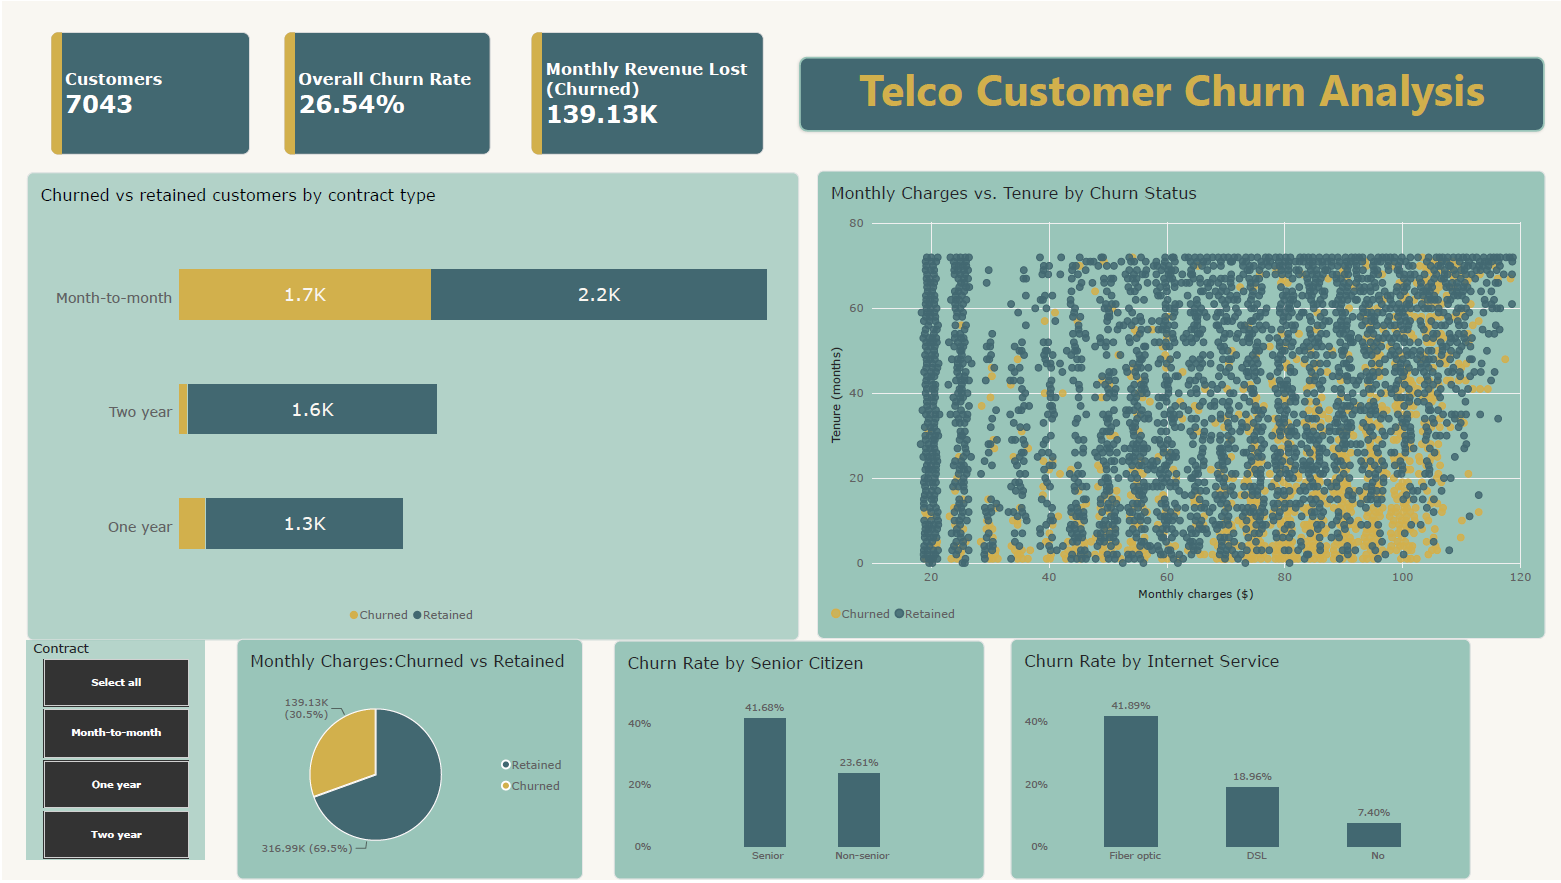

This screenshot's page, from the dashboard's own definition file:
{"tool":"powerbi","page":{"name":"Page 1","canvas":[1920,1080],"ordinal":0},"visuals":[{"type":"barChart","title":"Churned vs retained customers by contract type","fields":{"Category":["WA_Fn-UseC_-Telco-Customer-Churn.Contract"],"Series":["Telco.Churn Status"],"Y":["CountNonNull(WA_Fn-UseC_-Telco-Customer-Churn.customerID)"]},"box":[30,210,950,576],"z":0},{"type":"scatterChart","title":"Monthly Charges vs. Tenure by Churn Status","fields":{"Category":["WA_Fn-UseC_-Telco-Customer-Churn.customerID"],"Series":["Telco.Churn Status"],"X":["Avg(WA_Fn-UseC_-Telco-Customer-Churn.MonthlyCharges)"],"Y":["Avg(WA_Fn-UseC_-Telco-Customer-Churn.tenure)"]},"box":[1002,208,896,576],"z":1000},{"type":"textbox","box":[1002.6,38,917.5,92.3],"z":3000},{"type":"pieChart","title":"Monthly Charges:Churned vs Retained","fields":{"Category":["Telco.Churn Status"],"Y":["Sum(WA_Fn-UseC_-Telco-Customer-Churn.MonthlyCharges)"]},"box":[288,784,426,296],"z":4000},{"type":"clusteredColumnChart","title":"Churn Rate by Senior Citizen","fields":{"Category":["WA_Fn-UseC_-Telco-Customer-Churn.SeniorGroup"],"Y":["WA_Fn-UseC_-Telco-Customer-Churn.Churn_Rate"]},"box":[752,786,456,294],"z":5000},{"type":"clusteredColumnChart","title":"Churn Rate by Internet Service","fields":{"Category":["WA_Fn-UseC_-Telco-Customer-Churn.InternetService"],"Y":["WA_Fn-UseC_-Telco-Customer-Churn.Churn_Rate"]},"box":[1240,784,566,296],"z":6000},{"type":"cardVisual","fields":{"Data":["Telco.Customers"]},"box":[59.7,38,244.3,150.2],"z":7000},{"type":"cardVisual","fields":{"Data":["WA_Fn-UseC_-Telco-Customer-Churn.Churn_Rate"]},"box":[347.5,38,253.4,150.2],"z":7001},{"type":"cardVisual","fields":{"Data":["Telco.Chured MRR"]},"box":[651.5,38,285.9,150.2],"z":7002},{"type":"slicer","fields":{"Values":["Telco.Contract"]},"box":[30,786,218,270],"z":7003}]}

Visuals, with their boxes in screenshot pixels (x1, y1, x2, y2), scaled from the page's 1920x1080 canvas onto the 1561x883 screenshot:
"Churned vs retained customers by contract type" barChart: [left=24, top=172, right=797, bottom=643]
"Monthly Charges vs. Tenure by Churn Status" scatterChart: [left=815, top=170, right=1543, bottom=641]
textbox: [left=815, top=31, right=1560, bottom=107]
"Monthly Charges:Churned vs Retained" pieChart: [left=234, top=641, right=580, bottom=882]
"Churn Rate by Senior Citizen" clusteredColumnChart: [left=611, top=643, right=982, bottom=882]
"Churn Rate by Internet Service" clusteredColumnChart: [left=1008, top=641, right=1468, bottom=882]
cardVisual - Telco.Customers: [left=49, top=31, right=247, bottom=154]
cardVisual - WA_Fn-UseC_-Telco-Customer-Churn.Churn_Rate: [left=283, top=31, right=489, bottom=154]
cardVisual - Telco.Chured MRR: [left=530, top=31, right=762, bottom=154]
slicer - Telco.Contract: [left=24, top=643, right=202, bottom=863]
